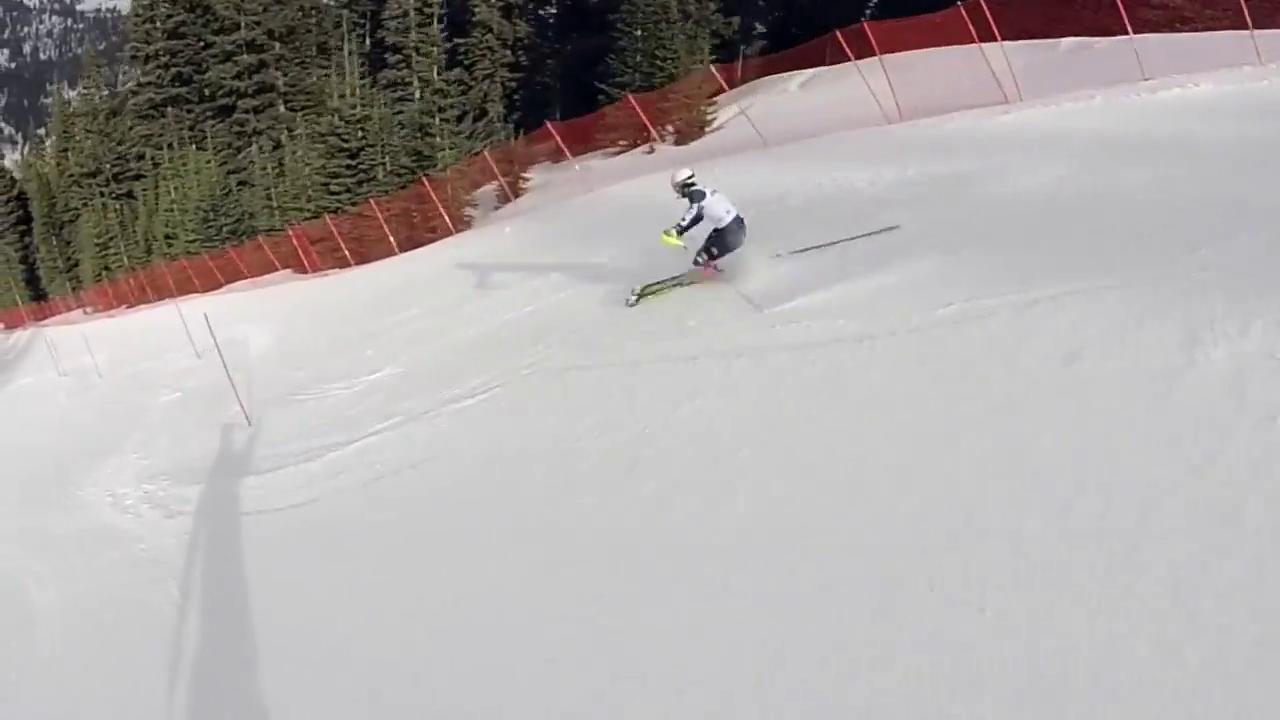gate: (205, 313, 251, 426)
